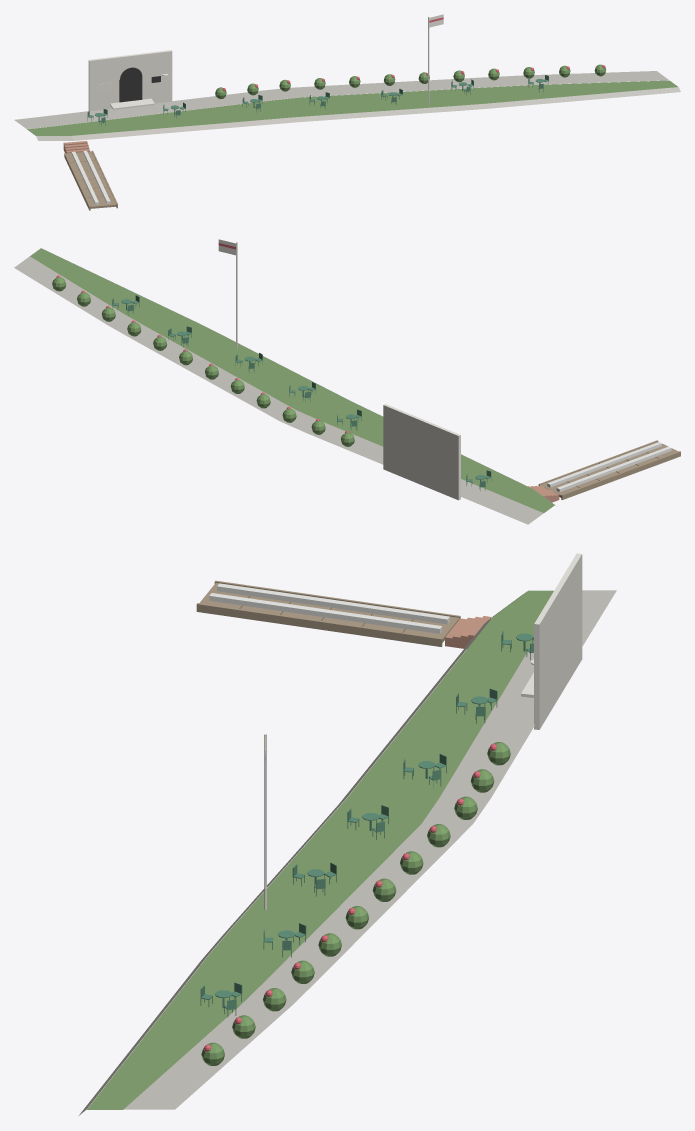
Rendered from canottieri.glb.
3 views of the same model, one above another, from view 1: azimuth 30°, elevation 25°; view 2: azimuth 150°, elevation 25°; view 3: azimuth 270°, elevation 25° (orthographic). The views are drawn at different scales.
Parts seen in each view (by area): view 1: canottieri@1933-99999.flags, canottieri@1933-99999.lawn, canottieri@1933-99999.white, canottieri@1933-99999.deck, canottieri@1933-99999.rose, canottieri@1933-99999.chair, canottieri@1933-99999.dark, canottieri@1933-99999.hull; view 2: canottieri@1933-99999.lawn, canottieri@1933-99999.flags, canottieri@1933-99999.white, canottieri@1933-99999.rose, canottieri@1933-99999.deck, canottieri@1933-99999.hull, canottieri@1933-99999.chair; view 3: canottieri@1933-99999.lawn, canottieri@1933-99999.flags, canottieri@1933-99999.white, canottieri@1933-99999.deck, canottieri@1933-99999.rose, canottieri@1933-99999.hull, canottieri@1933-99999.chair, canottieri@1933-99999.brick.
Boxes of the visible parts, x1,y1,x2,y2 form: canottieri@1933-99999.flags: [14, 71, 680, 140]; canottieri@1933-99999.lawn: [27, 80, 677, 135]; canottieri@1933-99999.white: [88, 14, 443, 111]; canottieri@1933-99999.deck: [64, 150, 117, 210]; canottieri@1933-99999.rose: [215, 64, 605, 99]; canottieri@1933-99999.chair: [87, 75, 548, 126]; canottieri@1933-99999.dark: [119, 67, 160, 102]; canottieri@1933-99999.hull: [71, 150, 110, 204]; canottieri@1933-99999.lawn: [30, 248, 554, 512]; canottieri@1933-99999.flags: [14, 248, 555, 524]; canottieri@1933-99999.white: [218, 239, 460, 500]; canottieri@1933-99999.rose: [52, 277, 354, 446]; canottieri@1933-99999.deck: [538, 440, 680, 499]; canottieri@1933-99999.hull: [547, 442, 671, 492]; canottieri@1933-99999.chair: [112, 295, 491, 491]; canottieri@1933-99999.lawn: [87, 590, 553, 1109]; canottieri@1933-99999.flags: [79, 590, 616, 1115]; canottieri@1933-99999.white: [264, 553, 582, 909]; canottieri@1933-99999.deck: [196, 580, 460, 646]; canottieri@1933-99999.rose: [201, 742, 510, 1065]; canottieri@1933-99999.hull: [209, 583, 449, 633]; canottieri@1933-99999.chair: [200, 631, 533, 1016]; canottieri@1933-99999.brick: [445, 616, 491, 648].
Bounding box in the file's own units: 59.68 × 10.15 × 25.
